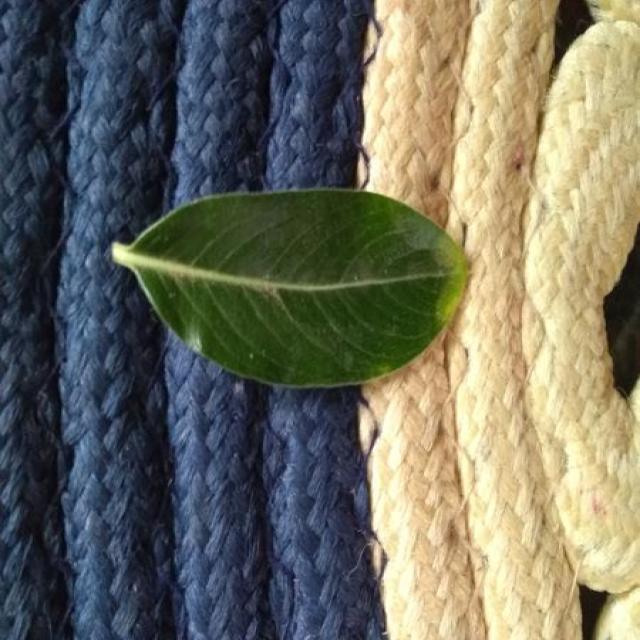catharanthus: (113, 189, 467, 388)
